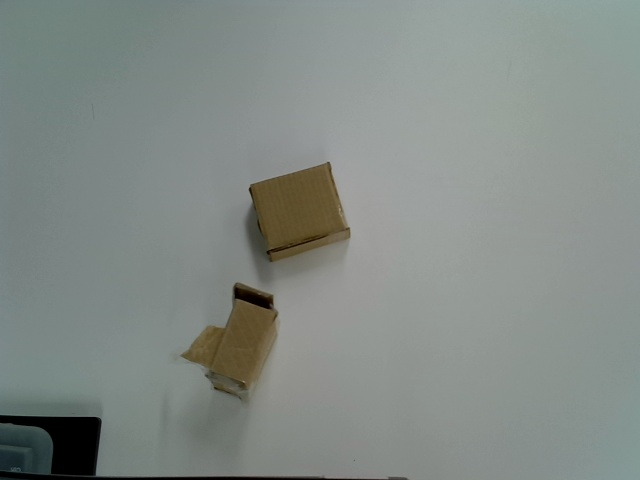defect: (177, 281, 278, 404)
normal: (250, 161, 351, 264)
